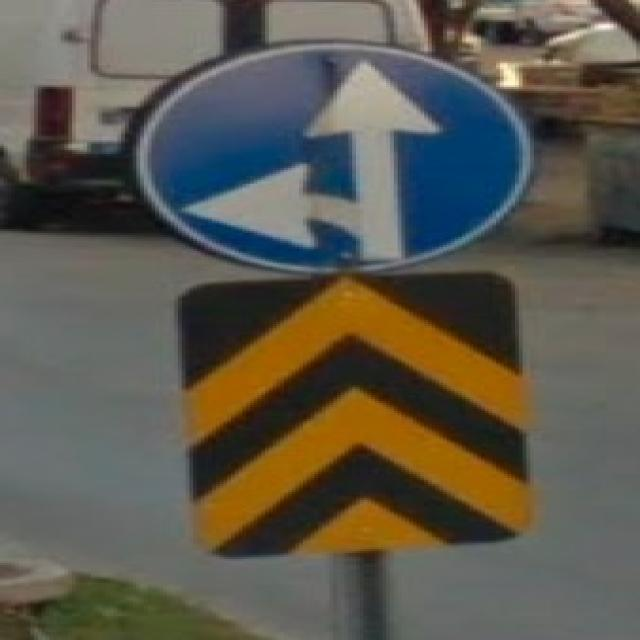Straight or Left: (140, 48, 530, 271)
